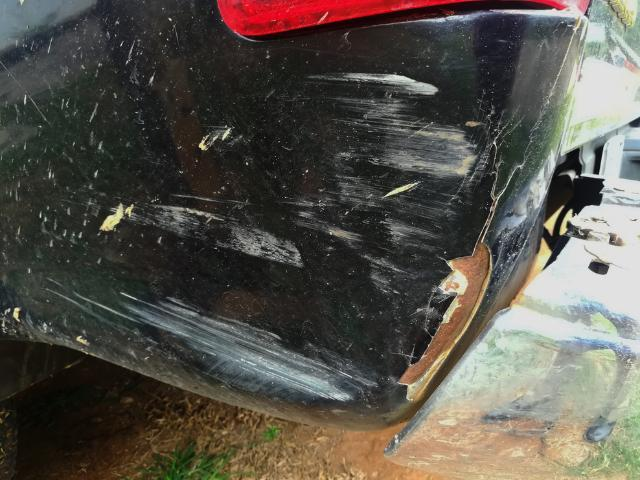Bumper: (0, 28, 640, 438)
